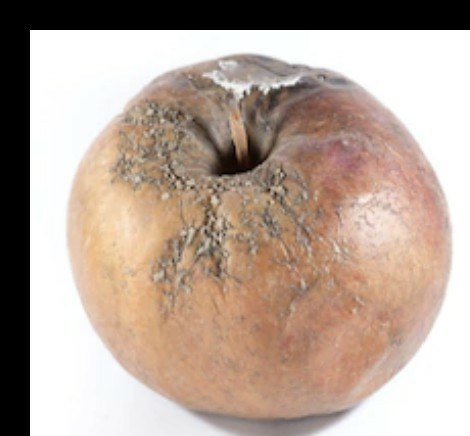rotten_apple: (68, 55, 454, 421)
